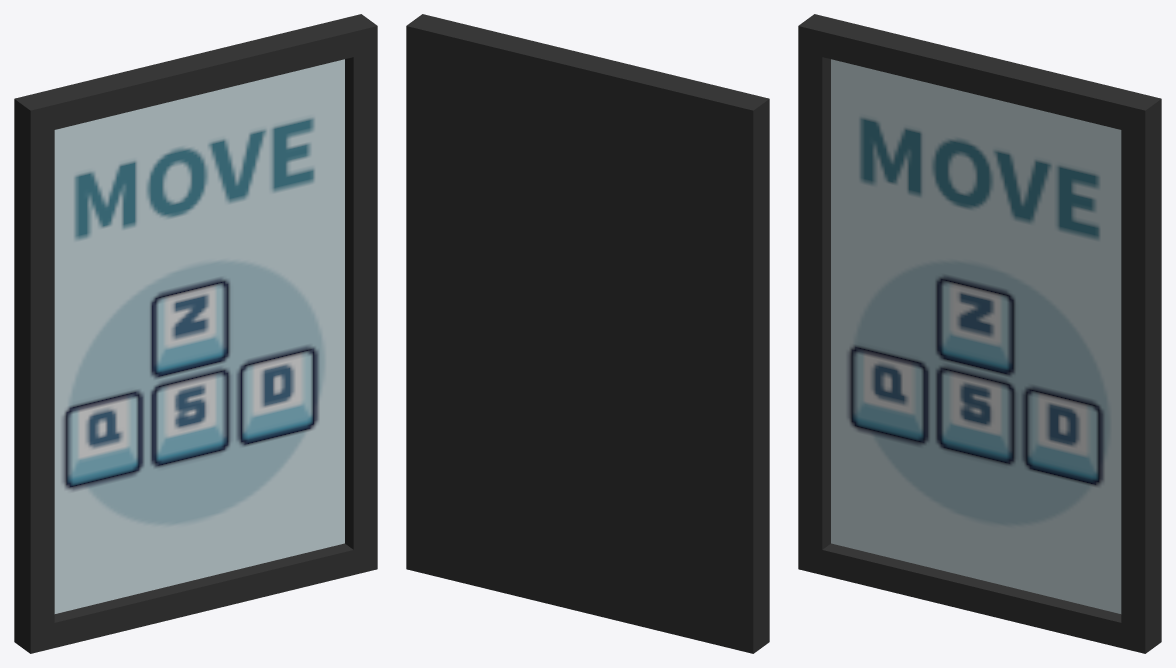
Rendered from B00_Cadre_Tuto_MOVE.fbx.
The picture shows the model from 3 angles, left to right: view 1: azimuth 30°, elevation 25°; view 2: azimuth 150°, elevation 25°; view 3: azimuth 330°, elevation 25°; orthographic projection.
Parts seen in each view (by area): view 1: B02_Cadre_Tuto_MOVE; view 2: B02_Cadre_Tuto_MOVE; view 3: B02_Cadre_Tuto_MOVE.
Part boxes in pixels (<box>): B02_Cadre_Tuto_MOVE: <box>14,14,377,653</box>; B02_Cadre_Tuto_MOVE: <box>406,14,769,653</box>; B02_Cadre_Tuto_MOVE: <box>798,14,1161,653</box>.
Bounding box in the file's own units: 331 × 495 × 26.98.
